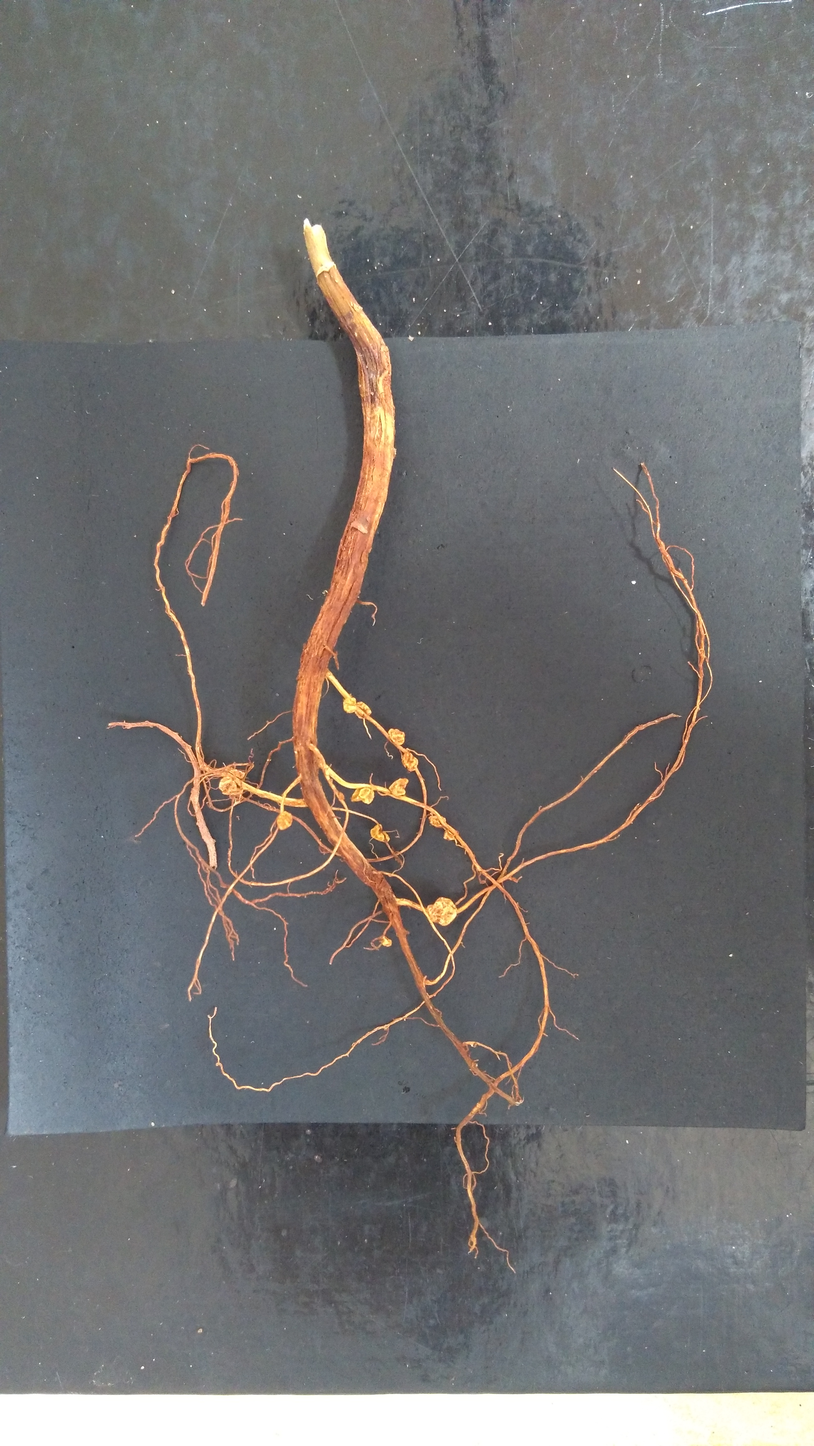nodule: (425, 894, 459, 927), (349, 784, 376, 806), (387, 776, 410, 798), (369, 822, 391, 844), (275, 809, 294, 831), (218, 776, 238, 796), (401, 752, 420, 773), (354, 700, 373, 720), (387, 727, 406, 746), (341, 696, 357, 715), (428, 813, 448, 828), (442, 828, 456, 843), (228, 769, 246, 780), (379, 934, 393, 948), (358, 787, 371, 798)
